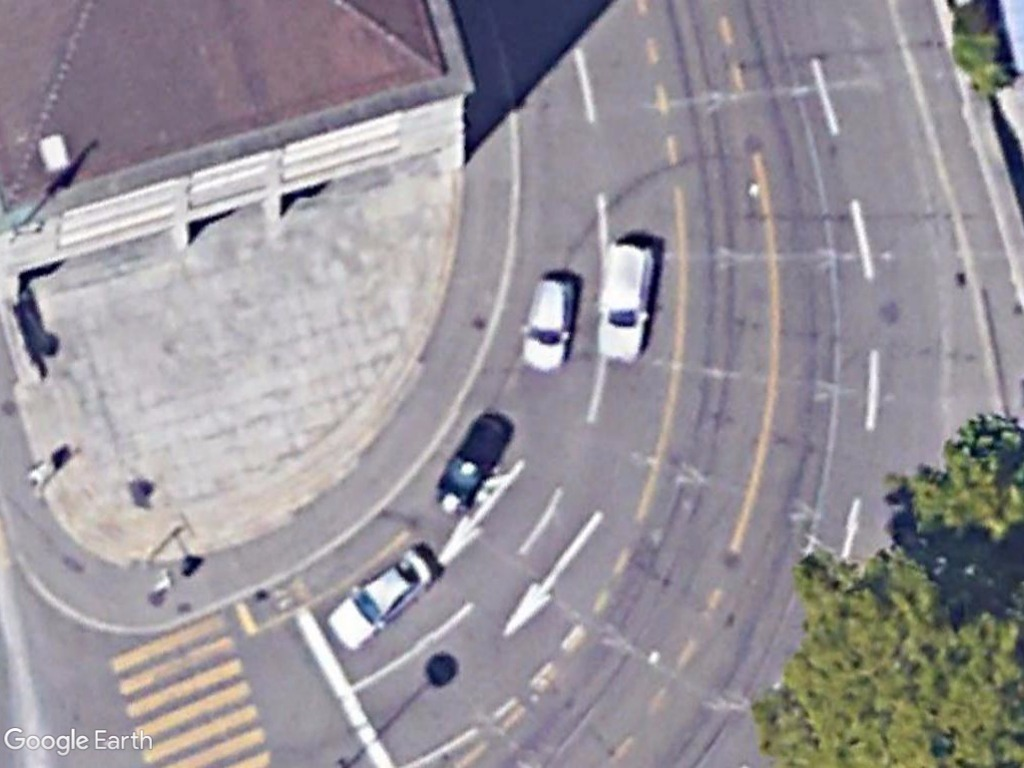car: (321, 547, 441, 656), (592, 235, 656, 367), (514, 272, 576, 380)
